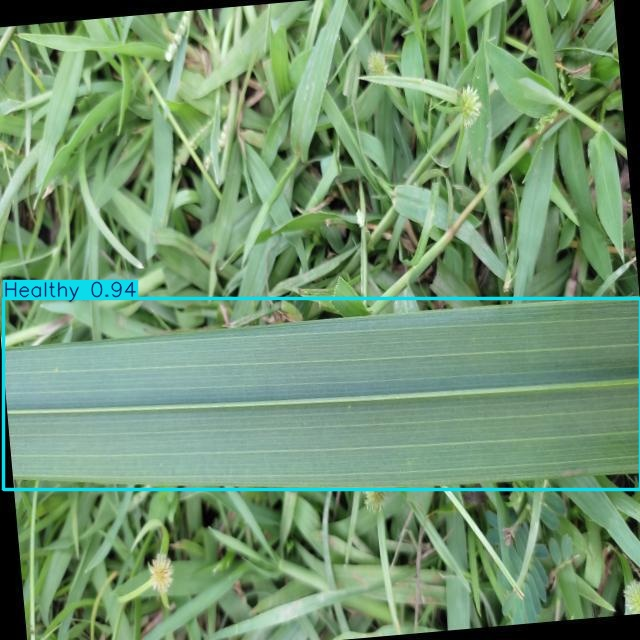Healthy: (4, 299, 640, 490)
